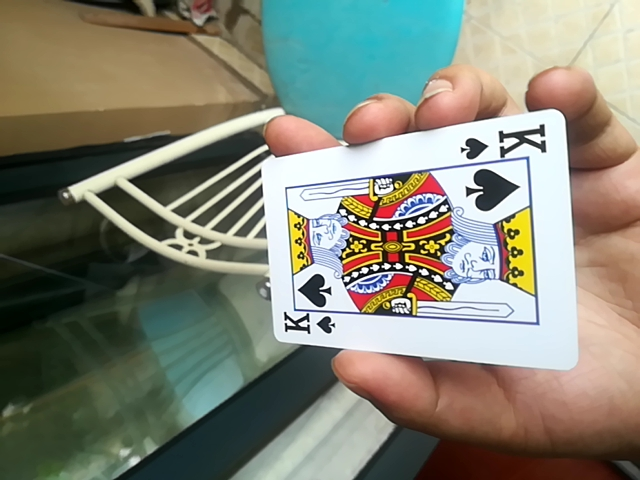ht k: (263, 112, 573, 367)
